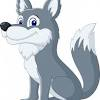Lobo: (1, 2, 99, 99)
